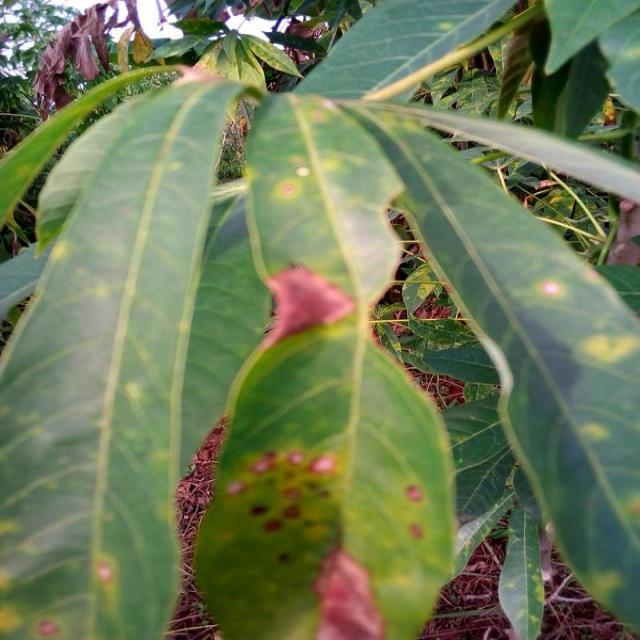cassava leaf: (2, 2, 639, 637), (1, 69, 245, 638), (193, 310, 459, 638)
